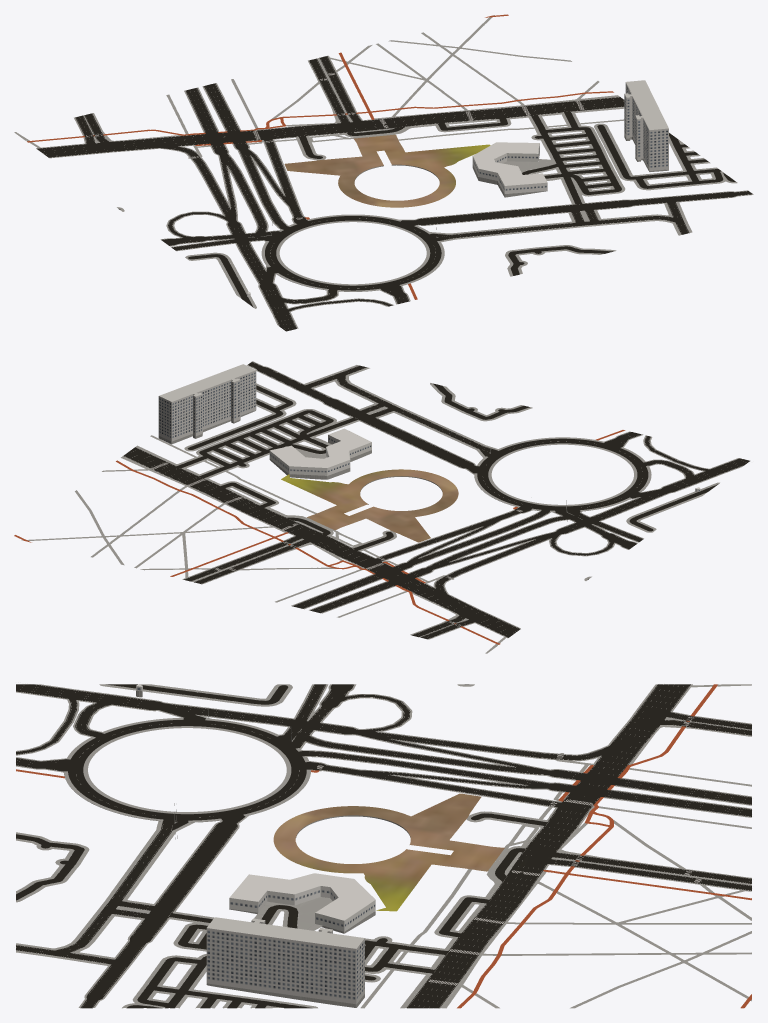
The model's file is ENTORNO_OSM.fbx.
3 views of the same model, one above another, from view 1: azimuth 30°, elevation 25°; view 2: azimuth 150°, elevation 25°; view 3: azimuth 270°, elevation 25° (orthographic). The views are drawn at different scales.
Parts seen in each view (by area): view 1: Ruas_Avenidas.001, Calcadas.001, Edificacoes_OSM.001, Praca_Catedral, Passeios_Pracas.001, Anel_Viario_Pista, Ciclovia.001, Anel_Viario_Calcadas, Meio_Fio.001, Sinalizacao_Branca.001; view 2: Ruas_Avenidas.001, Calcadas.001, Edificacoes_OSM.001, Praca_Catedral, Passeios_Pracas.001, Anel_Viario_Pista, Anel_Viario_Calcadas, Ciclovia.001, Meio_Fio.001, Borda_Buracos, Sinalizacao_Branca.001; view 3: Ruas_Avenidas.001, Calcadas.001, Edificacoes_OSM.001, Praca_Catedral, Passeios_Pracas.001, Anel_Viario_Pista, Anel_Viario_Calcadas, Meio_Fio.001, Ciclovia.001, Sinalizacao_Branca.001, Borda_Buracos, Anel_Viario_Meio_Fio.
Boxes of the visible parts, x1,y1,x2,y2 form: Ruas_Avenidas.001: (37, 56, 752, 331); Calcadas.001: (36, 55, 753, 328); Edificacoes_OSM.001: (247, 80, 668, 296); Praca_Catedral: (284, 134, 490, 207); Passeios_Pracas.001: (14, 15, 624, 180); Anel_Viario_Pista: (265, 216, 441, 291); Ciclovia.001: (27, 14, 613, 299); Anel_Viario_Calcadas: (261, 214, 444, 291); Meio_Fio.001: (39, 77, 746, 319); Sinalizacao_Branca.001: (36, 60, 752, 329); Ruas_Avenidas.001: (123, 362, 749, 639); Calcadas.001: (122, 361, 742, 639); Edificacoes_OSM.001: (158, 364, 700, 491); Praca_Catedral: (281, 469, 458, 542); Passeios_Pracas.001: (21, 435, 507, 653); Anel_Viario_Pista: (474, 438, 648, 512); Anel_Viario_Calcadas: (474, 437, 651, 512); Ciclovia.001: (14, 430, 625, 644); Meio_Fio.001: (133, 363, 734, 635); Borda_Buracos: (158, 410, 371, 479); Sinalizacao_Branca.001: (125, 363, 688, 631); Ruas_Avenidas.001: (16, 684, 751, 1008); Calcadas.001: (16, 684, 751, 1008); Edificacoes_OSM.001: (136, 684, 375, 1004); Praca_Catedral: (273, 793, 504, 911); Passeios_Pracas.001: (254, 684, 751, 1008); Anel_Viario_Pista: (63, 718, 310, 822); Anel_Viario_Calcadas: (63, 717, 310, 822); Meio_Fio.001: (16, 684, 751, 1008); Ciclovia.001: (16, 684, 751, 1008); Sinalizacao_Branca.001: (14, 682, 753, 1008); Borda_Buracos: (136, 690, 375, 1007); Anel_Viario_Meio_Fio: (66, 719, 307, 820).
Size of the model in its own units: 504 by 54.79 by 483.
